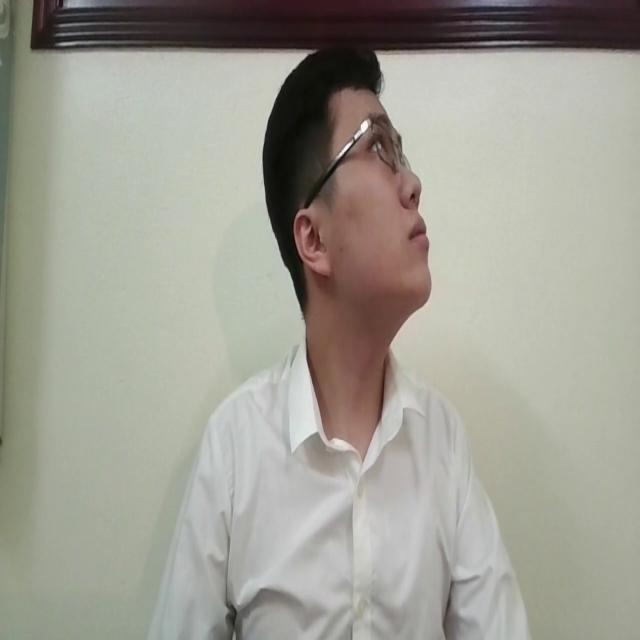student: (140, 31, 528, 640)
